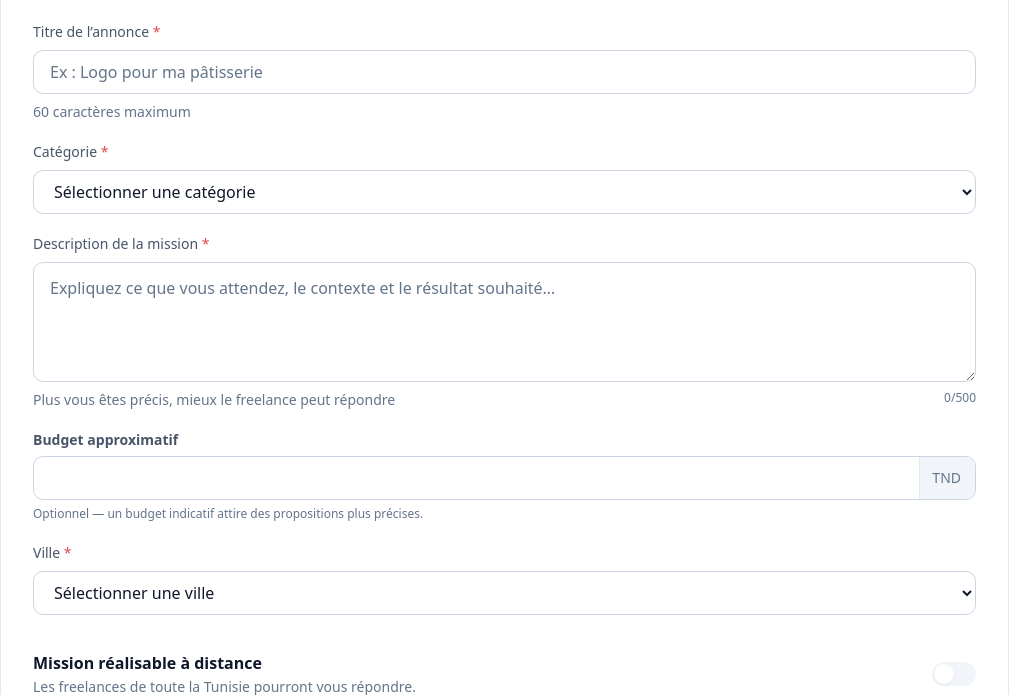
Test: AnnonceForm — F2 behaviour › shows the cap refusal (5 open annonces) returned by the action, in French
The width and height of the screenshot is (1024, 695).
In the field labelled "Titre de l’annonce": (504, 72) x1=50 y1=60 x2=959 y2=84, type "LOGO 3D"
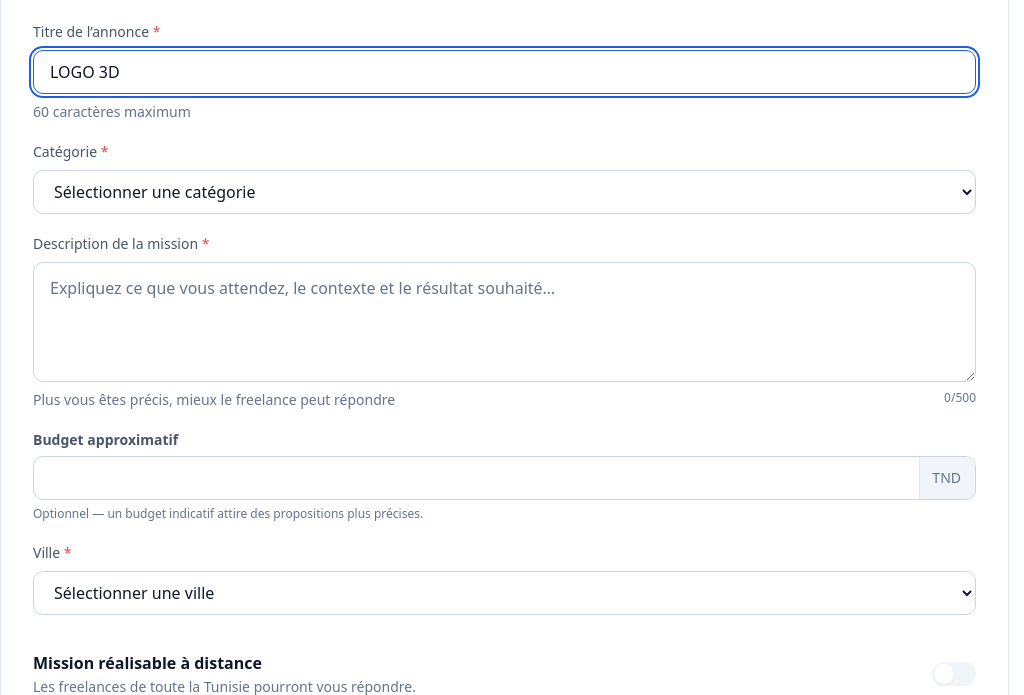
In the text box labelled "Description de la mission": (504, 322) x1=33 y1=262 x2=976 y2=382, type "Un logo pour mon café"
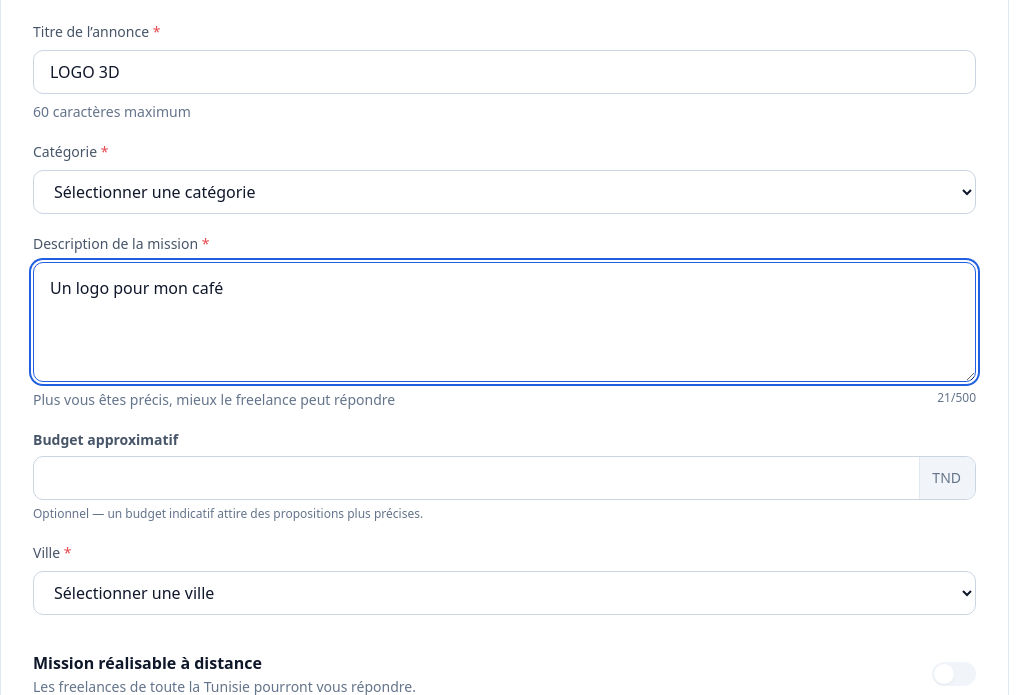
Select "Design graphique & logo" in the dropdown labelled "Catégorie": (504, 192) x1=33 y1=170 x2=976 y2=214
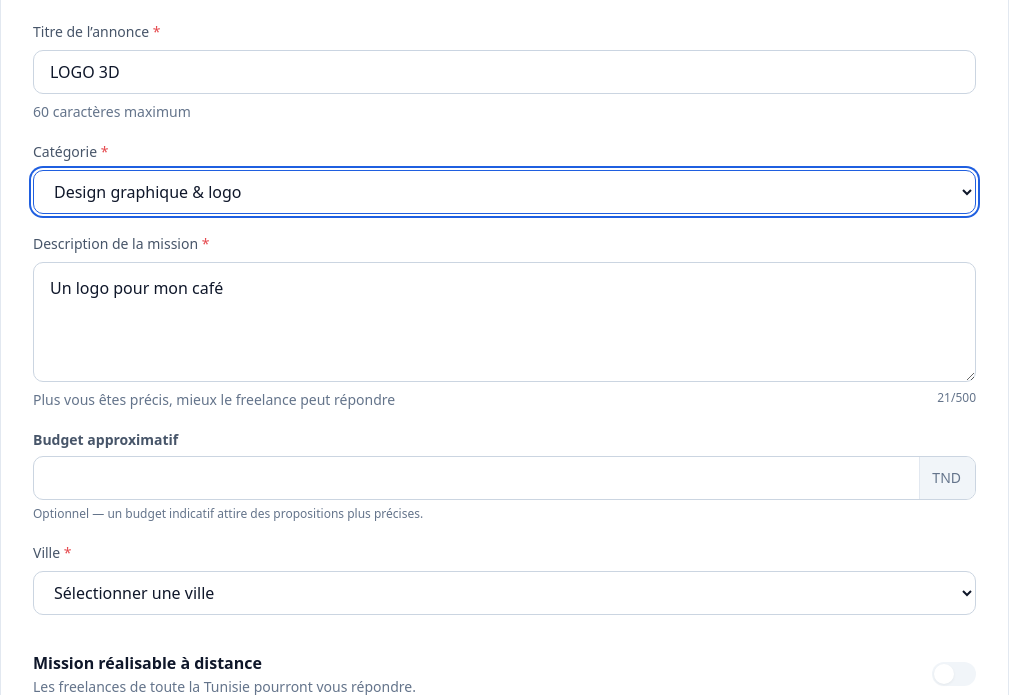
Select "Ariana" in the dropdown labelled "Ville": (504, 593) x1=33 y1=571 x2=976 y2=615
(page scrolled)
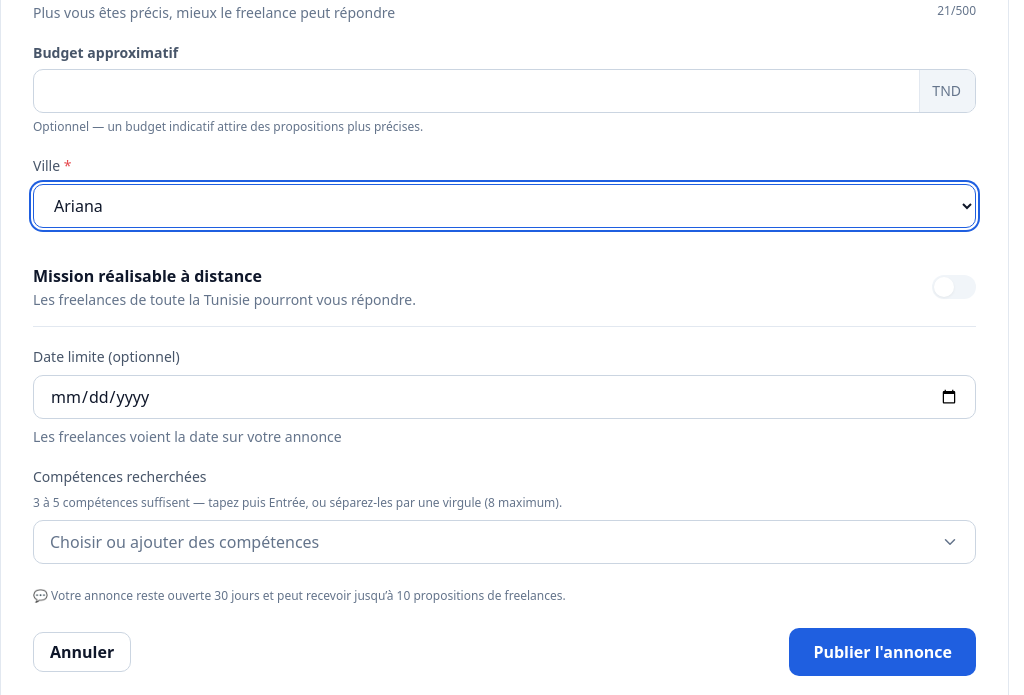
Click the button "Publier l'annonce": (883, 652) x1=789 y1=628 x2=976 y2=676
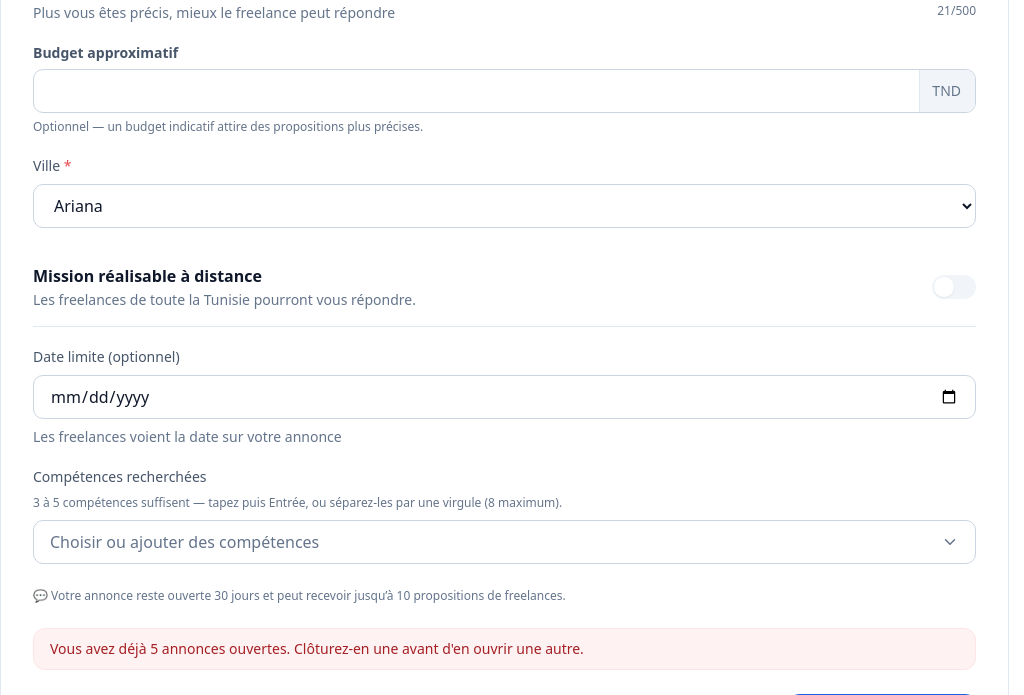
expect the message reads "Vous avez déjà 5 annonces ouvertes. Clôturez-en une avant d'en ouvrir une autre.": met, box x1=50 y1=639 x2=584 y2=658
